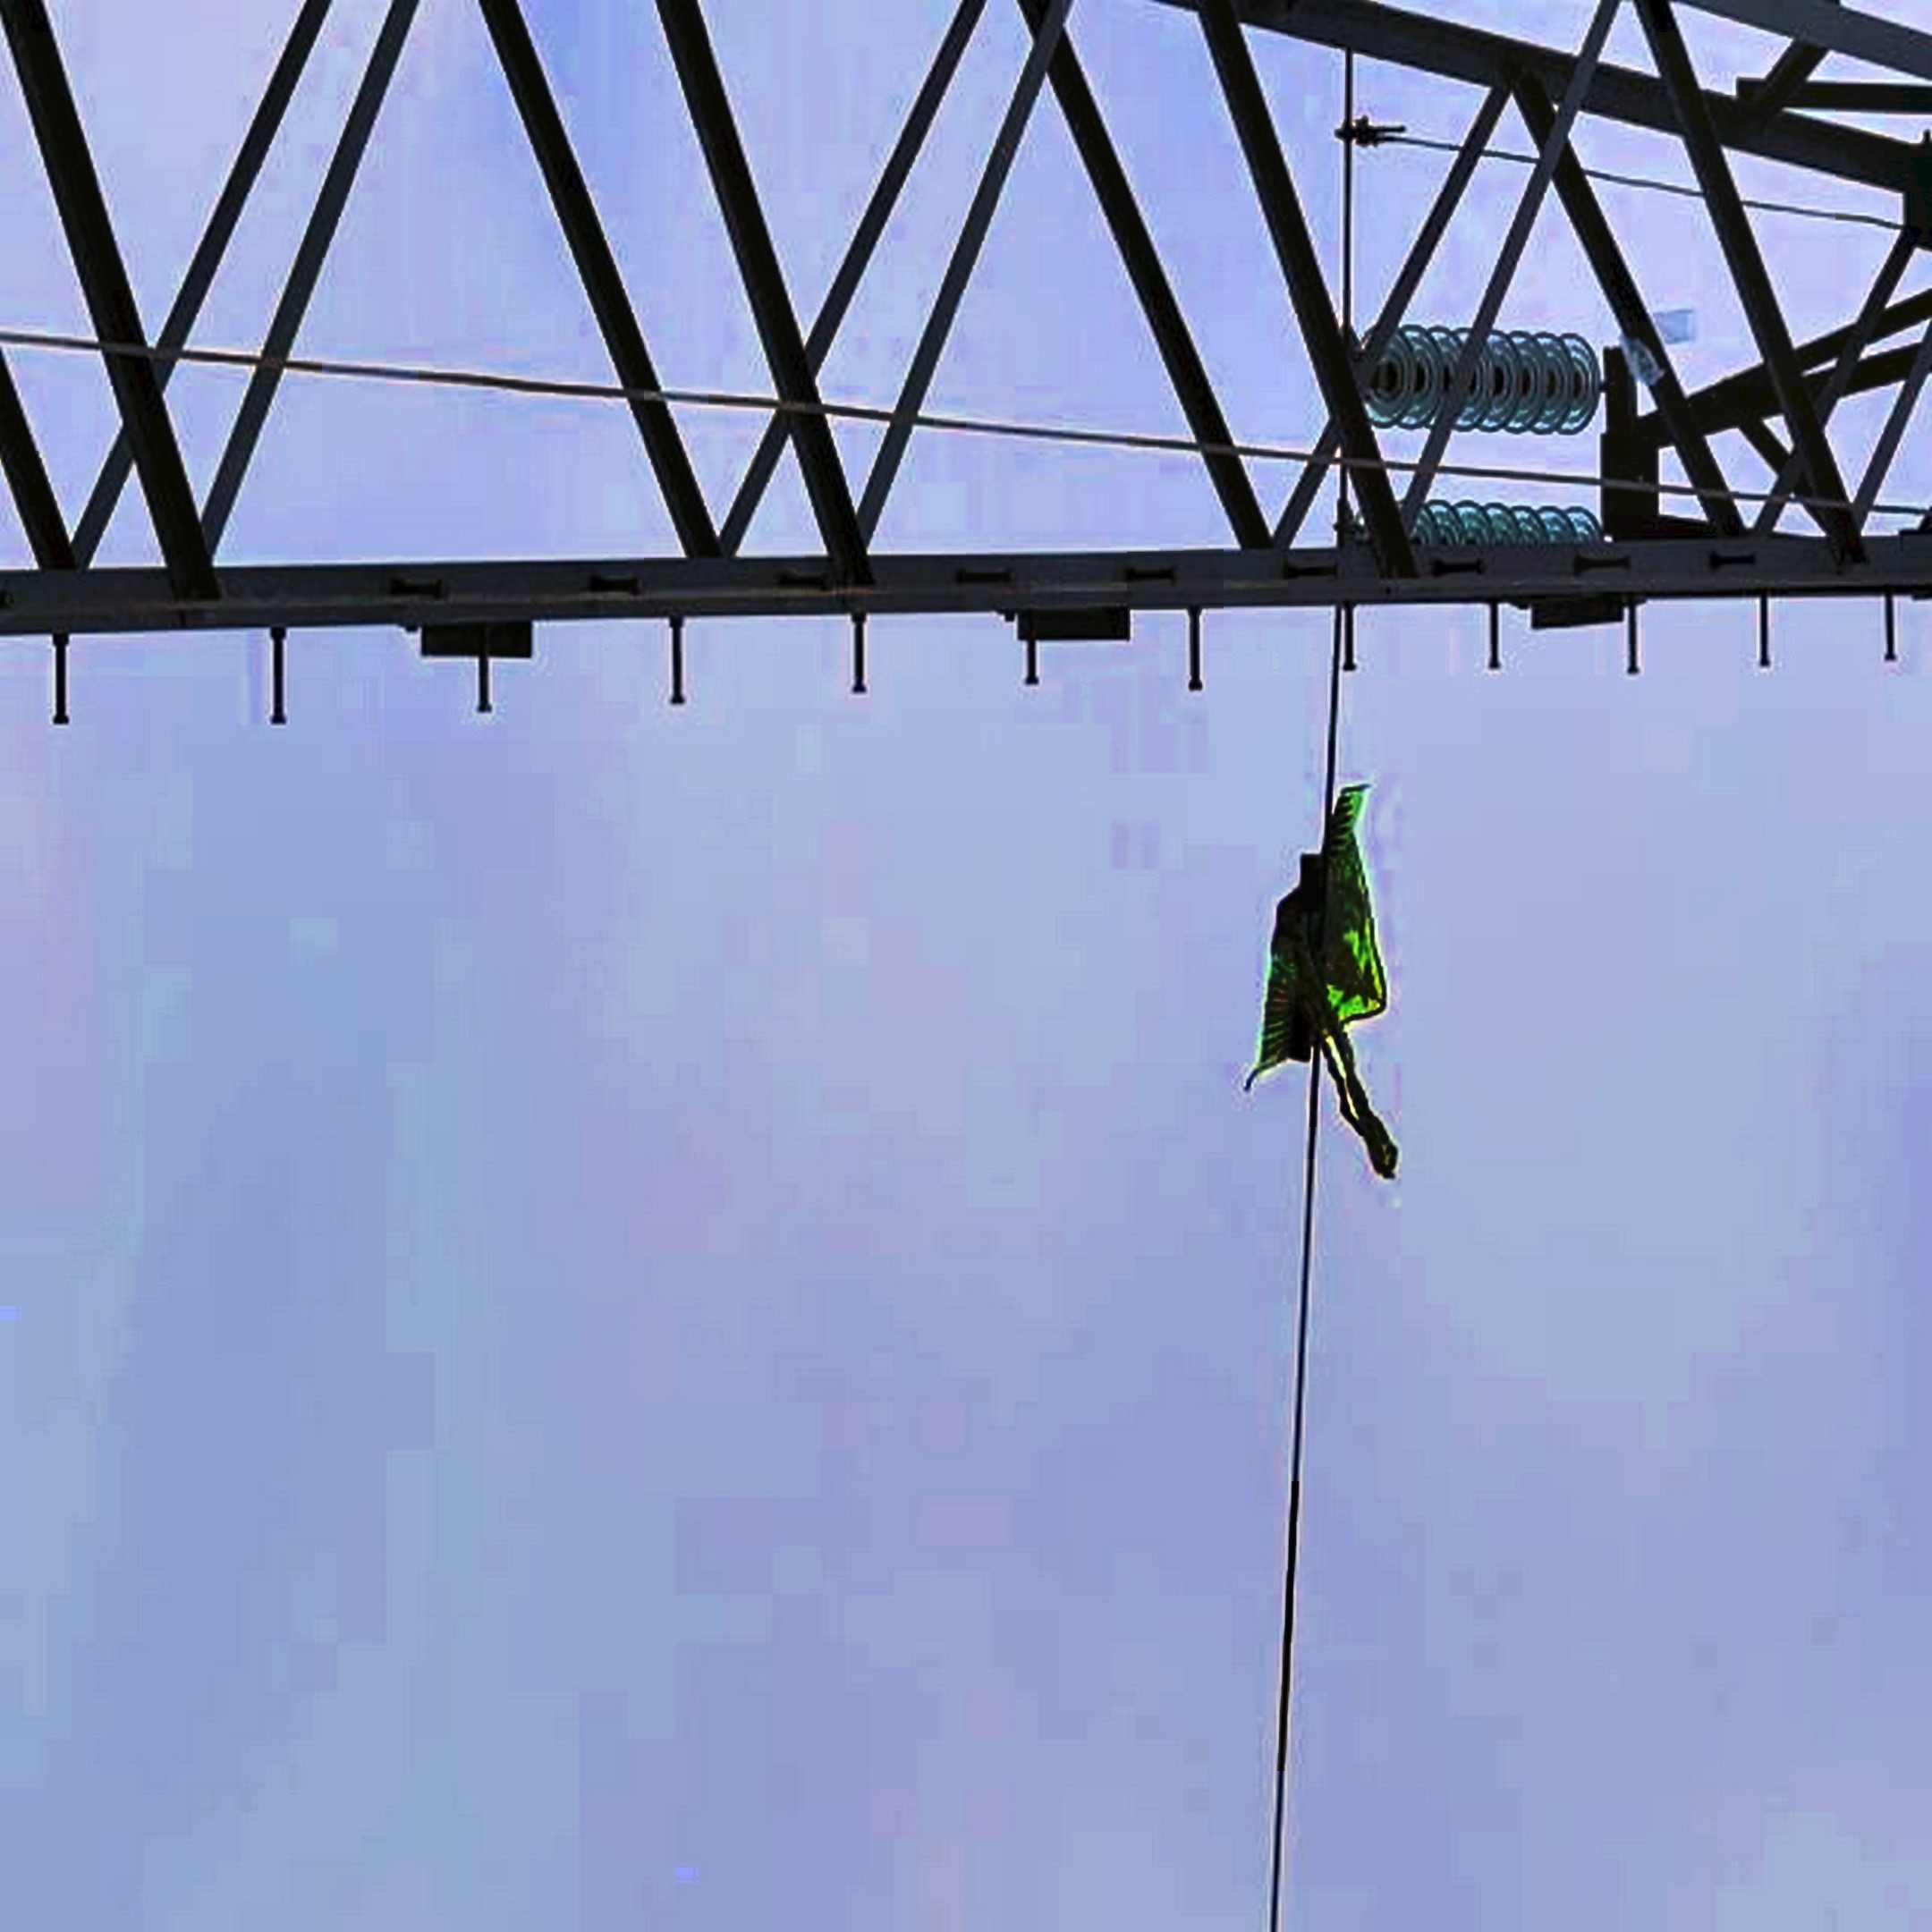wire foreign body: (1196, 768, 1465, 1169)
